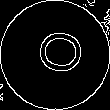O_W: (27, 31, 83, 79)
